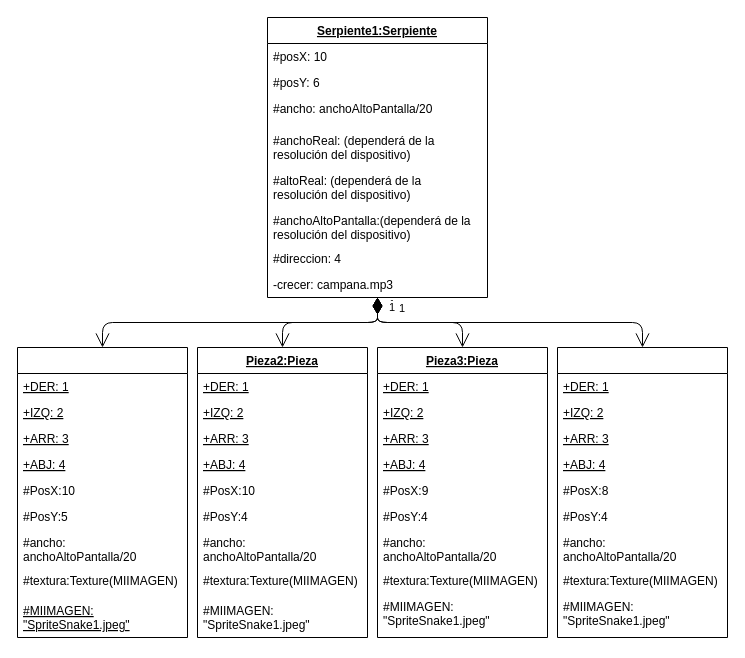
The diagram is 745 pixels wide and 658 high, and some of its shapes have lost their labels. The box of each missing label's shape, as (x1, y1, x2, y2) in pixels:
Pieza1:Pieza: (16, 346, 188, 638)
Pieza4:Pieza: (556, 346, 728, 638)
